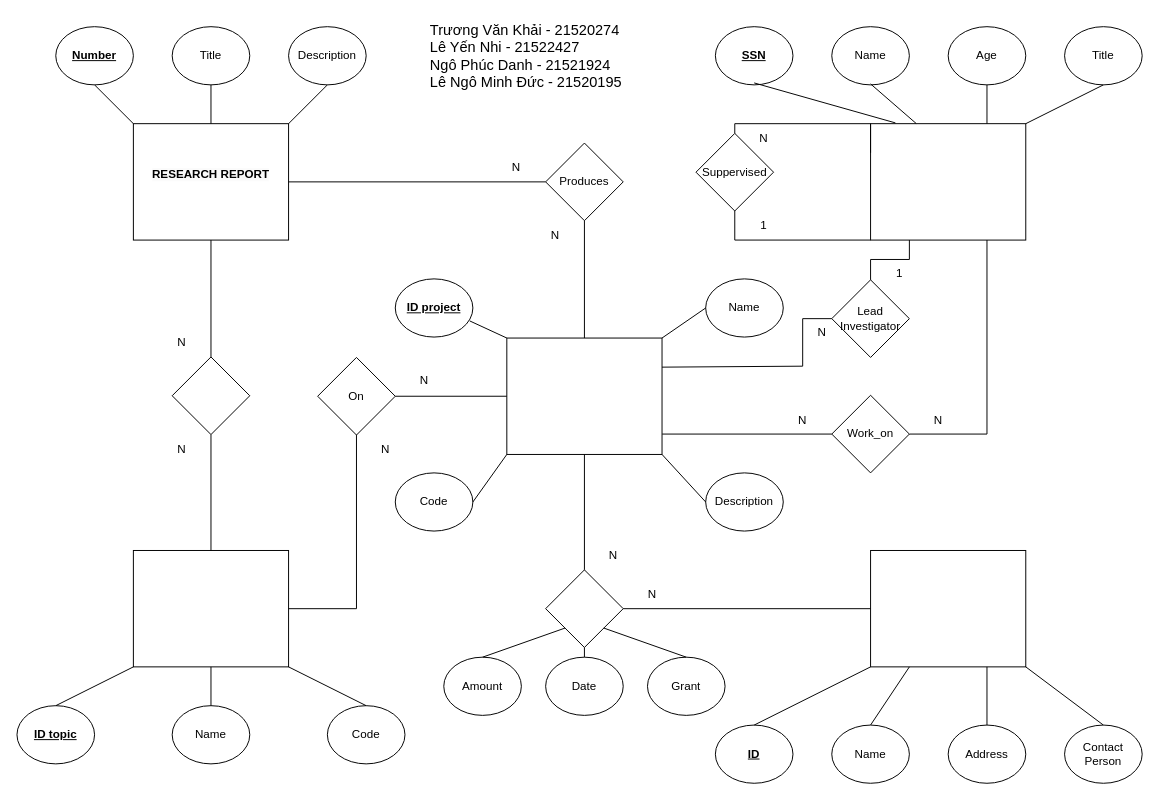
This 1159x800 diagram has some shape labels left out. Each missing label, with the centre of its shape:
"Addresses" goes at point 210,395.
"AGENT" goes at point 948,608.
"EMPLOYEE" goes at point 948,181.
"Funded_by" goes at point 584,608.
"RESEARCH PROJECT" goes at point 584,395.
"RESEARCH TOPIC" goes at point 210,608.
